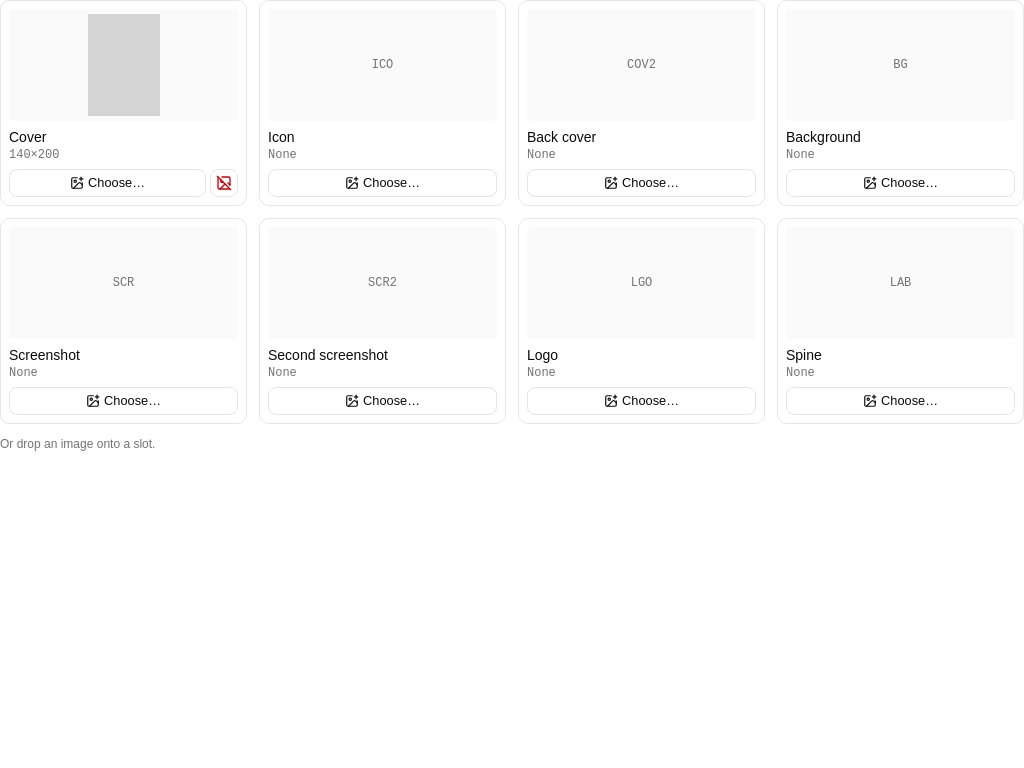
Test: ArtSlots › gives every slot one Choose… button and keeps Delete for a slot that has a picture
Expected: the button with test id "art-delete-COV" is shown, [210,169,238,197]
Click the button with test id "art-choose-COV" at (108, 183), box [9,169,206,197]
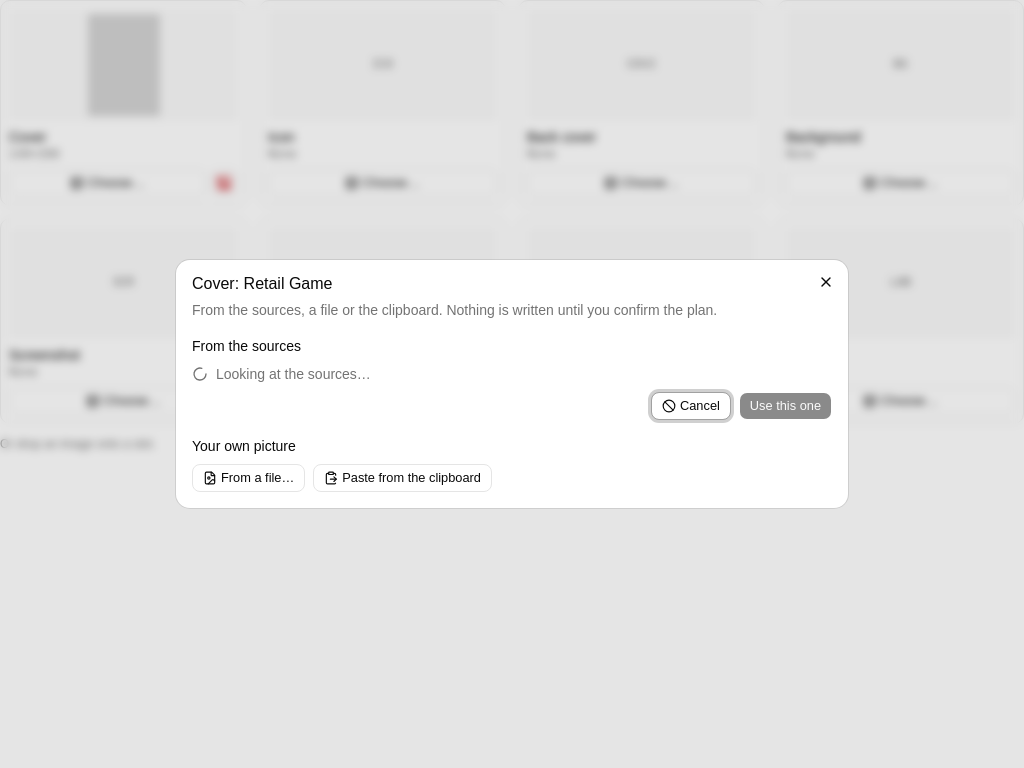
Now the dialog with test id "art-choose-dialog" shows "Cover: Retail Game", box [192,275,332,292]
Now the button with test id "art-from-file-COV" is shown, box [192,464,305,492]
